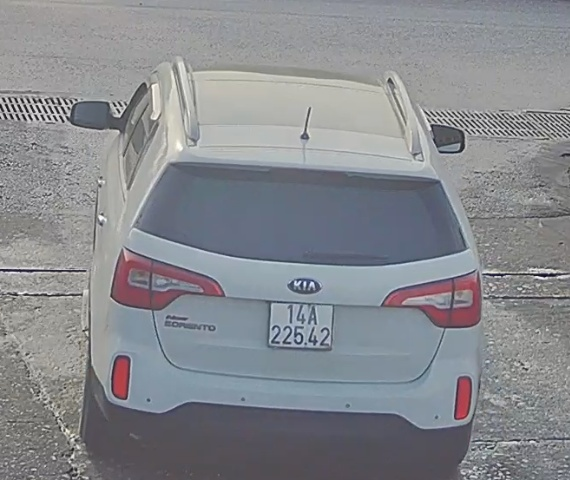vehicle plate: (259, 297, 336, 354)
